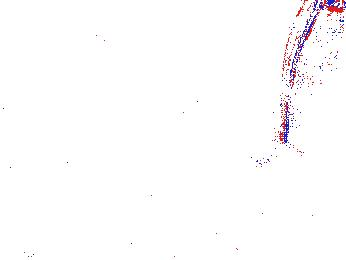glassfish: (264, 1, 346, 168)
